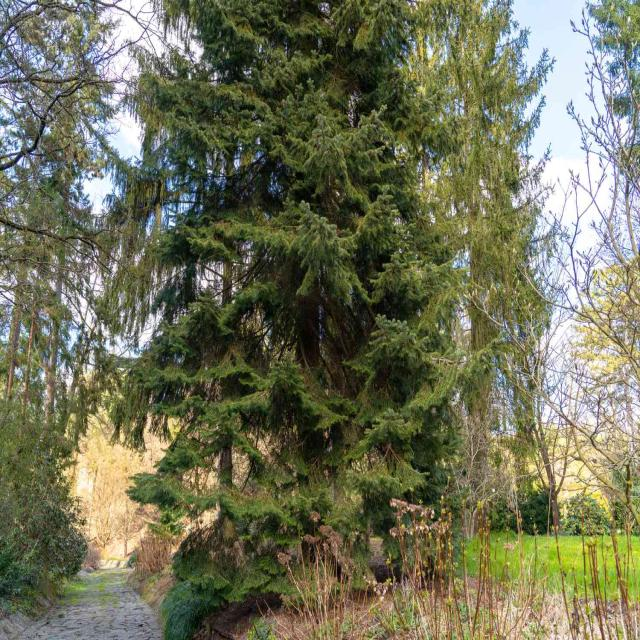Abies: (119, 0, 462, 573)
